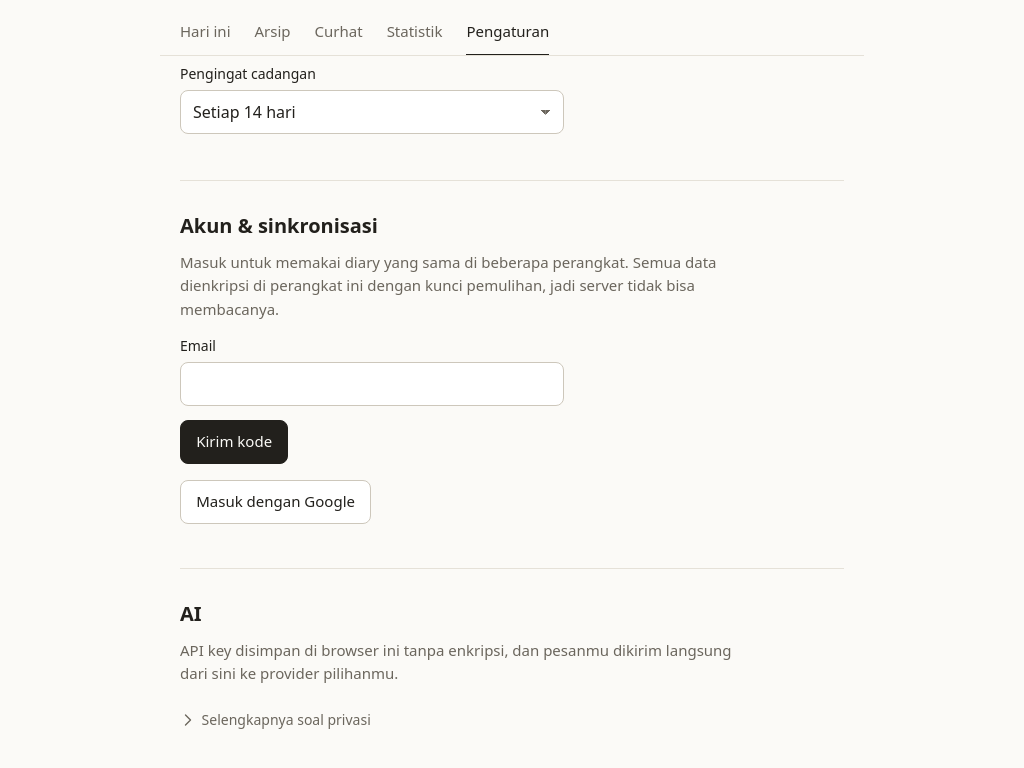
Test case: says so when the email code is wrong
The width and height of the screenshot is (1024, 768).
(page scrolled)
Step 1. Type "a@example.com" into the field labelled "Email" → (372, 384), box left=180, top=362, right=564, bottom=406
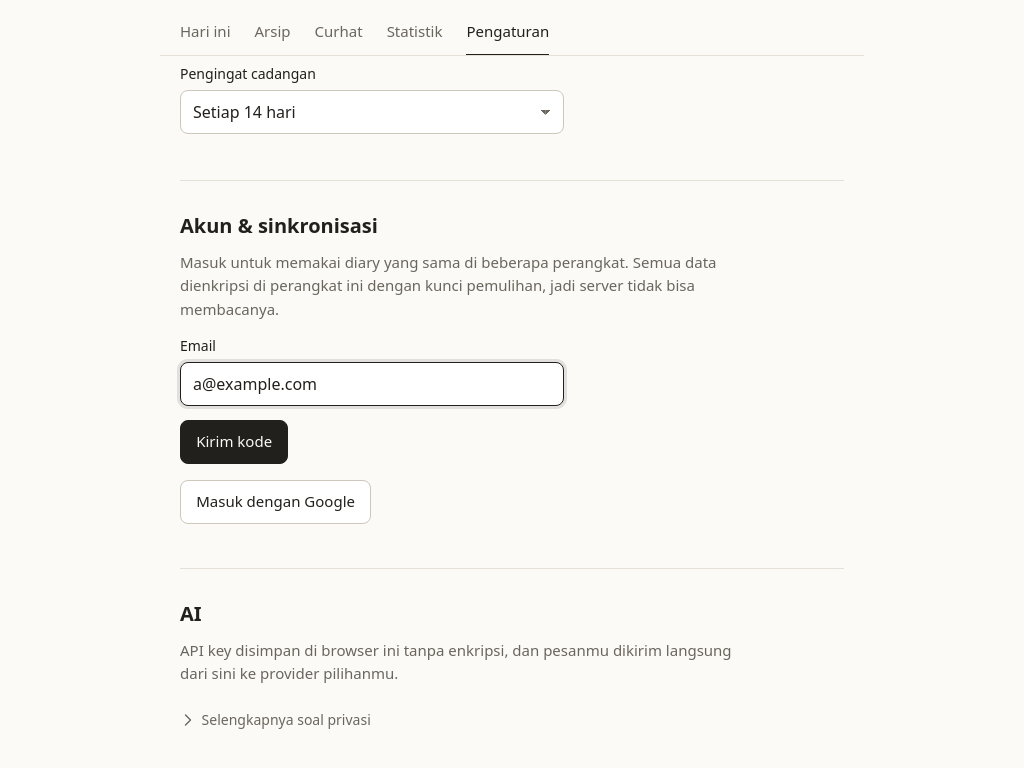
Step 2. Click the button "Kirim kode" → click(234, 442), box left=180, top=420, right=288, bottom=464
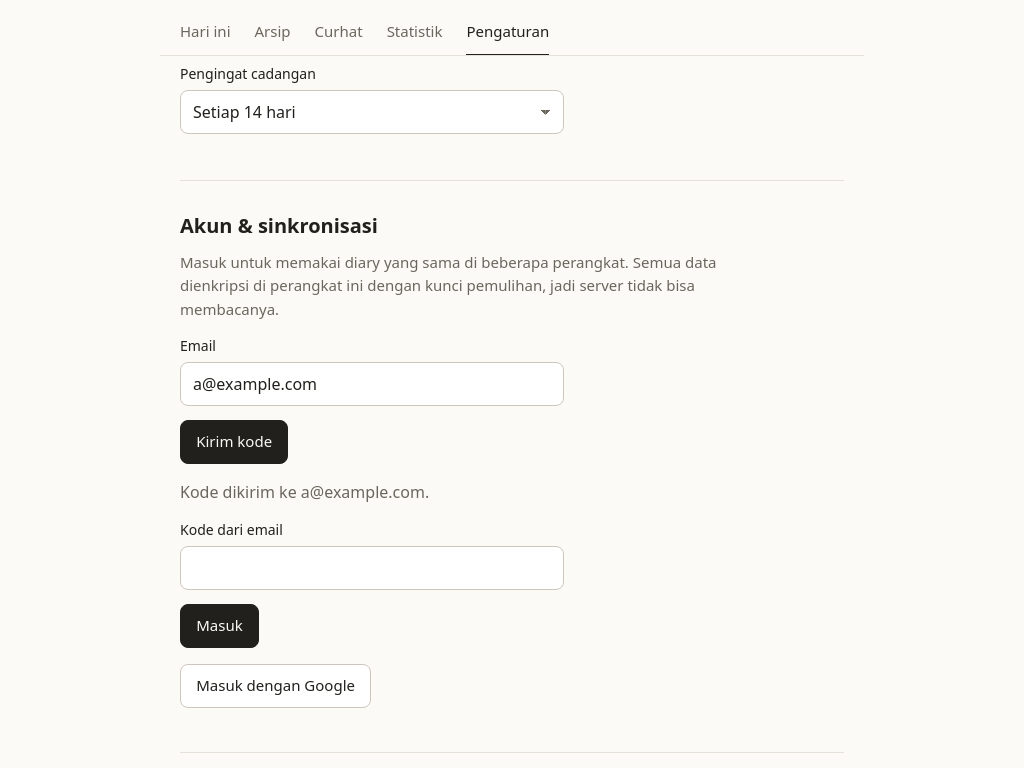
Step 3. Type "999999" into the field labelled "Kode dari email" → (372, 568), box left=180, top=546, right=564, bottom=590
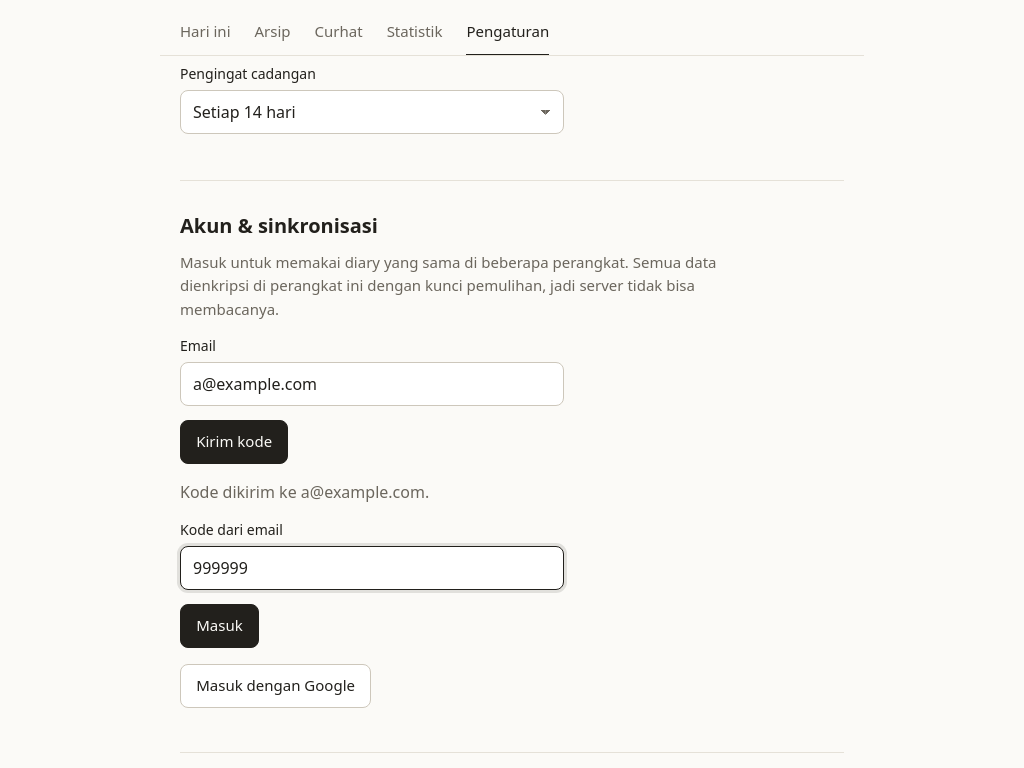
Step 4. Click the button "Masuk" → click(219, 626), box left=180, top=604, right=259, bottom=648
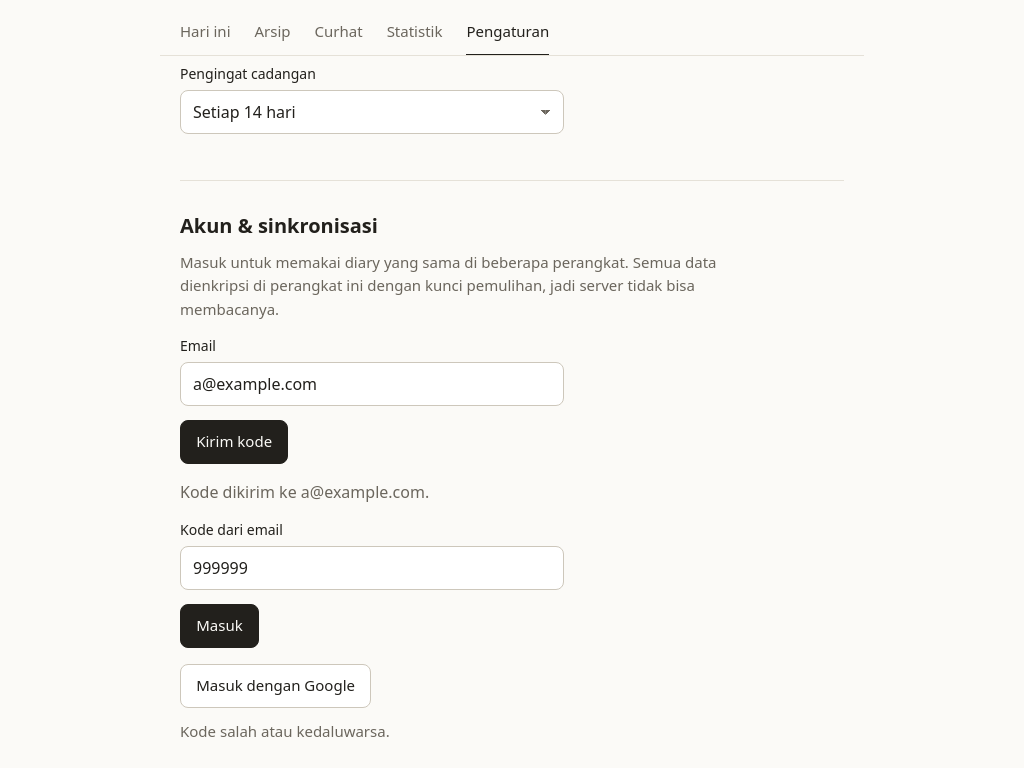
expect the text "Kode salah atau kedaluwarsa." is shown: met, box left=180, top=721, right=390, bottom=741
